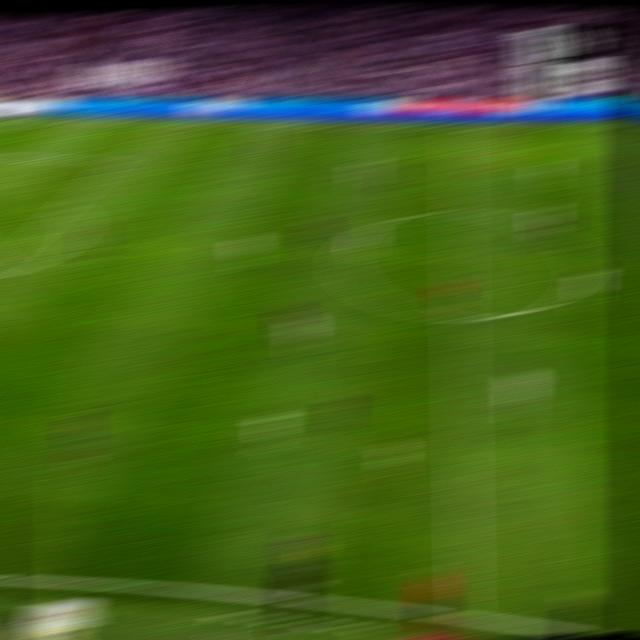bigarea_top_inner: (104, 154, 128, 167)
corner: (15, 113, 38, 120)
halfcircle_bottom: (446, 305, 473, 328)
halfcircle_top: (444, 201, 474, 224)
midline_bottom_intersection: (450, 604, 481, 626)
midline_top_intersection: (445, 120, 470, 132)
top_arc_area_intersection: (53, 200, 77, 212)
